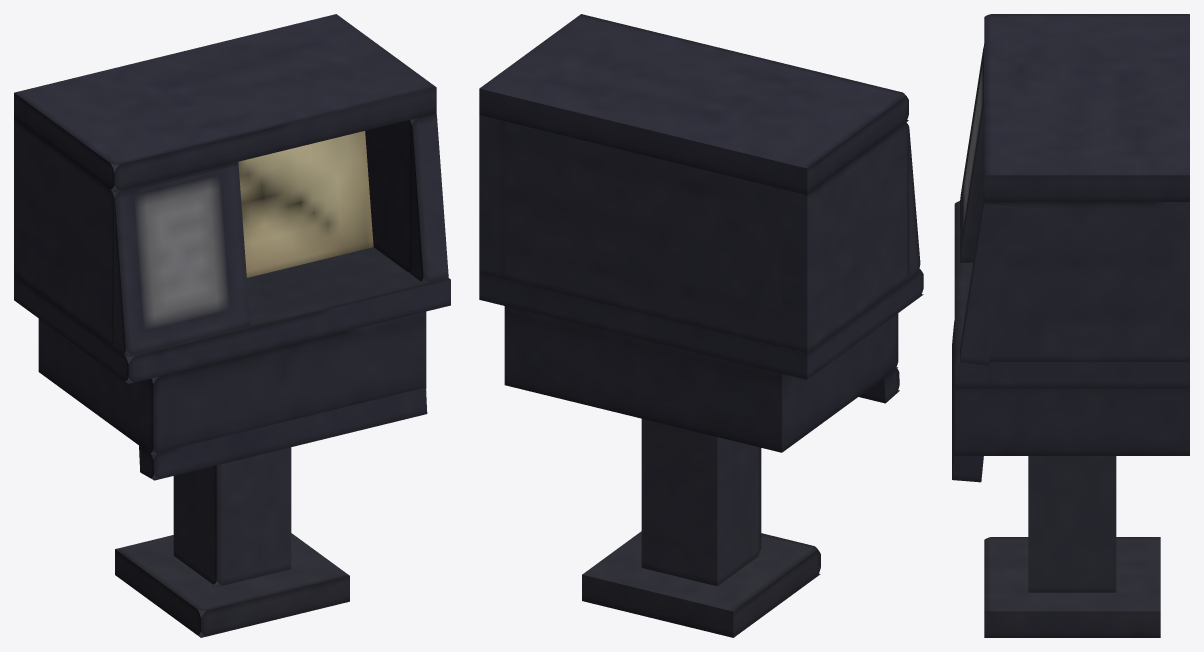
Rendered from newsstand1.obj.
The picture shows the model from 3 angles, left to right: view 1: azimuth 30°, elevation 25°; view 2: azimuth 150°, elevation 25°; view 3: azimuth 270°, elevation 25°; orthographic projection. The views are drawn at different scales.
Visible parts, largest first — view 1: baseModel6, baseModel11, baseModel8, baseModel2, baseModel3, baseModel9, baseModel1, baseModel0, baseModel10, baseModel4, baseModel7; view 2: baseModel6, baseModel5, baseModel11, baseModel3, baseModel1, baseModel0, baseModel2, baseModel4, baseModel8, baseModel10; view 3: baseModel6, baseModel4, baseModel11, baseModel0, baseModel1, baseModel2, baseModel7, baseModel8, baseModel10.
Boxes of the visible parts, left/top/right/bottom form: baseModel6: left=14, top=14, right=436, bottom=191; baseModel11: left=38, top=311, right=426, bottom=455; baseModel8: left=111, top=163, right=250, bottom=356; baseModel2: left=14, top=247, right=450, bottom=383; baseModel3: left=14, top=119, right=238, bottom=344; baseModel9: left=238, top=131, right=373, bottom=277; baseModel1: left=173, top=447, right=291, bottom=586; baseModel0: left=115, top=533, right=349, bottom=637; baseModel10: left=139, top=387, right=427, bottom=480; baseModel4: left=365, top=113, right=436, bottom=272; baseModel7: left=409, top=115, right=448, bottom=281; baseModel6: left=479, top=14, right=908, bottom=194; baseModel5: left=504, top=121, right=781, bottom=346; baseModel11: left=504, top=306, right=898, bottom=452; baseModel3: left=782, top=122, right=909, bottom=353; baseModel1: left=641, top=418, right=761, bottom=586; baseModel0: left=582, top=531, right=820, bottom=637; baseModel2: left=479, top=268, right=923, bottom=379; baseModel4: left=479, top=115, right=504, bottom=279; baseModel8: left=906, top=129, right=920, bottom=280; baseModel10: left=859, top=368, right=899, bottom=403; baseModel6: left=984, top=14, right=1189, bottom=201; baseModel4: left=984, top=202, right=1189, bottom=361; baseModel11: left=954, top=388, right=1189, bottom=455; baseModel0: left=984, top=537, right=1160, bottom=637; baseModel1: left=1028, top=456, right=1116, bottom=592; baseModel2: left=954, top=201, right=1189, bottom=388; baseModel7: left=960, top=195, right=1013, bottom=365; baseModel8: left=960, top=46, right=984, bottom=262; baseModel10: left=952, top=320, right=983, bottom=482.
Size of the model in its own units: 13.01 by 19 by 8.09.
